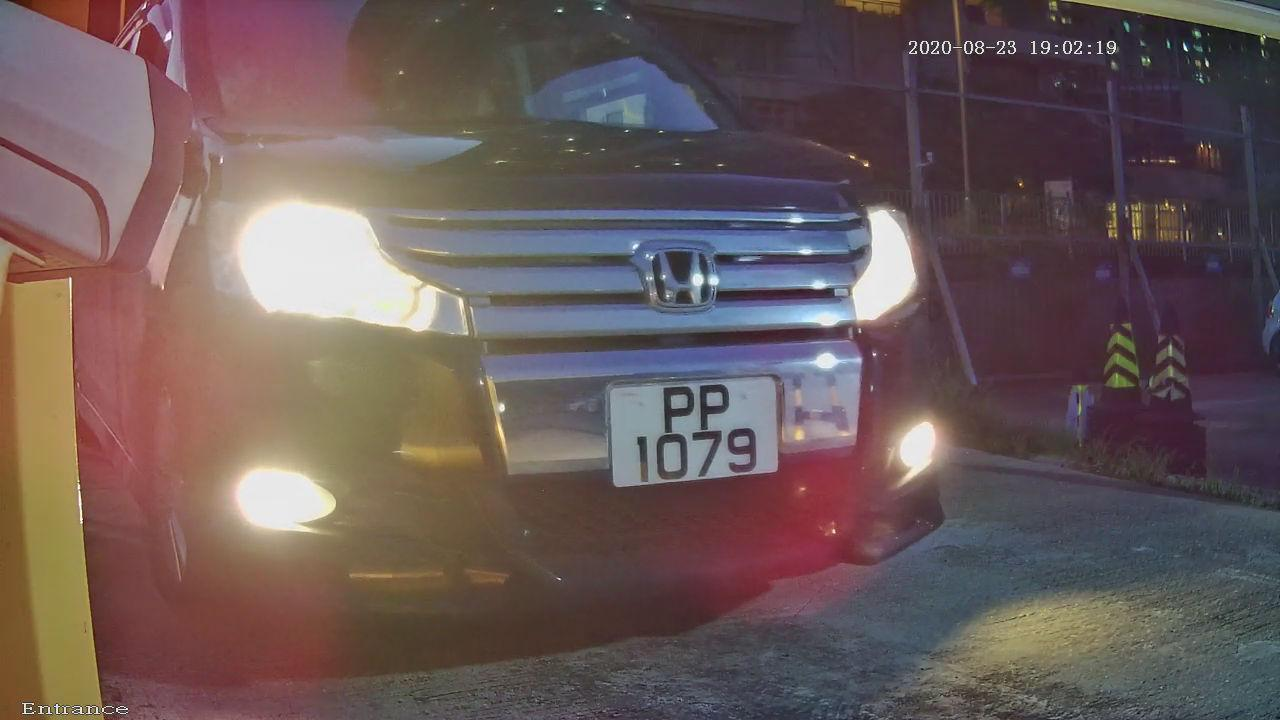Car: (12, 10, 1041, 685)
License Plate: (583, 357, 806, 502)
